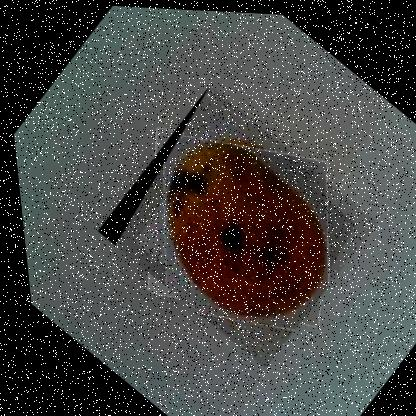mango_rotten: (79, 76, 386, 371)
